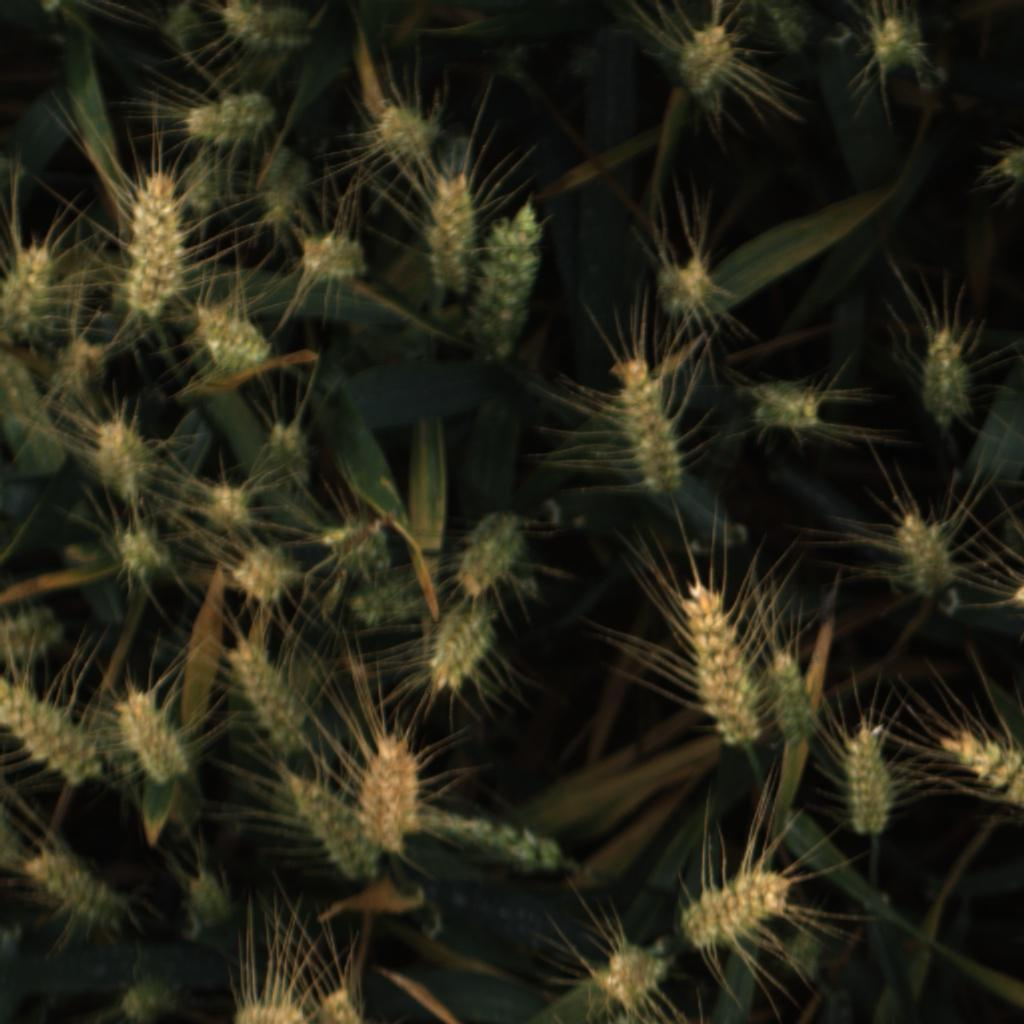0-0: (681, 580, 766, 749), (275, 768, 392, 883), (469, 196, 546, 359), (0, 672, 98, 796), (109, 166, 185, 315), (613, 351, 692, 494), (224, 636, 321, 750), (420, 802, 564, 876), (24, 843, 130, 940), (680, 864, 793, 953), (939, 721, 1024, 830), (359, 727, 426, 854), (832, 714, 897, 843), (115, 686, 194, 792), (86, 405, 161, 507), (421, 605, 503, 697), (452, 506, 528, 605), (425, 170, 480, 305), (45, 335, 124, 418), (583, 928, 664, 1007), (0, 242, 58, 350), (215, 0, 323, 58), (896, 510, 960, 606), (916, 324, 971, 431), (191, 301, 277, 369), (652, 247, 728, 323), (318, 509, 397, 582), (233, 531, 307, 606), (747, 375, 828, 439), (770, 650, 821, 748), (673, 23, 735, 102), (346, 564, 418, 632), (1, 593, 70, 663), (178, 856, 235, 934), (173, 147, 233, 220), (756, 0, 822, 64), (373, 103, 445, 161), (112, 519, 173, 587), (261, 417, 316, 491), (298, 228, 369, 285), (83, 698, 140, 766), (181, 98, 261, 144), (780, 915, 831, 987), (203, 473, 263, 534), (865, 18, 923, 75), (112, 977, 179, 1024), (217, 88, 282, 134), (483, 31, 534, 89), (225, 991, 311, 1024), (159, 0, 206, 56), (0, 814, 40, 876), (317, 985, 370, 1024), (563, 41, 608, 85), (990, 142, 1024, 197), (263, 177, 300, 223), (259, 146, 293, 187), (286, 155, 311, 189), (1019, 1023, 1021, 1024)
